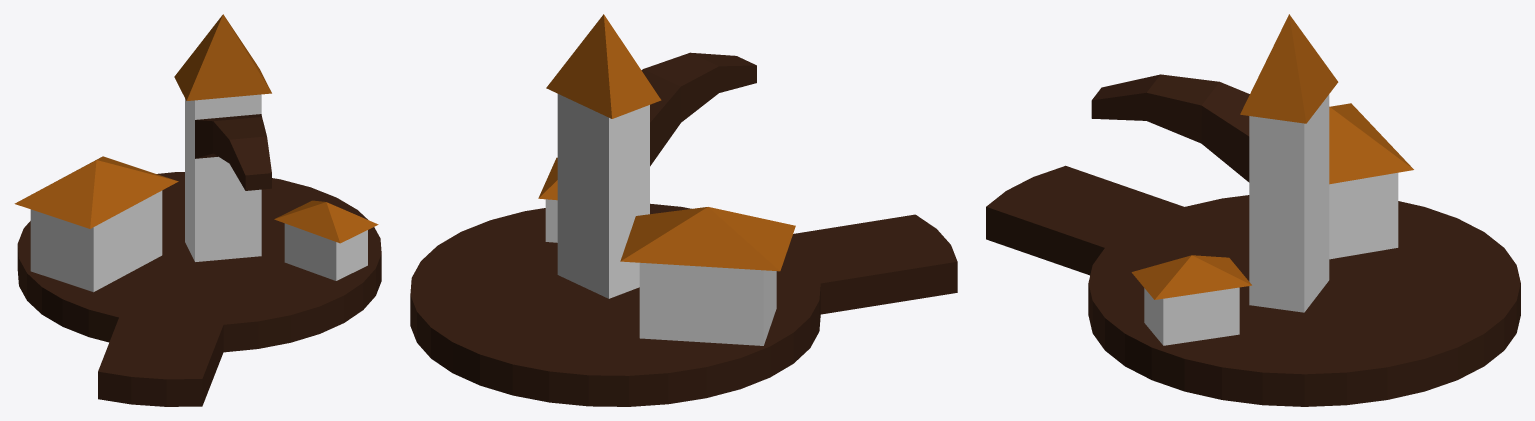
The model's file is port.fbx.
3 renders of one model, left to right at view 1: azimuth 30°, elevation 25°; view 2: azimuth 150°, elevation 25°; view 3: azimuth 270°, elevation 25°, orthographic. The views are drawn at different scales.
Parts seen in each view (by area): view 1: port; view 2: port; view 3: port.
Part boxes in pixels (<box>): port: <box>14,14,381,406</box>; port: <box>410,14,957,406</box>; port: <box>986,14,1520,406</box>.
Bounding box in the file's own units: 138 × 95.86 × 149.
